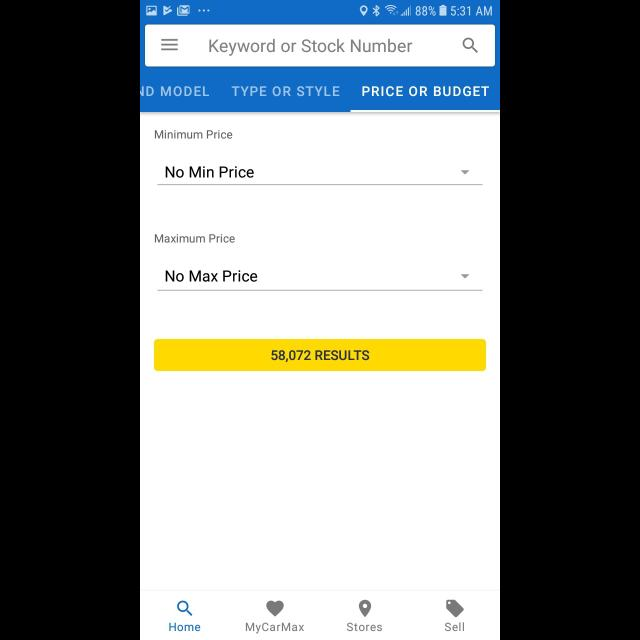icon: (446, 599, 464, 617), (266, 601, 284, 617), (462, 38, 478, 54), (177, 600, 193, 616), (358, 599, 372, 617), (162, 39, 178, 51), (460, 170, 470, 174), (460, 274, 470, 278)
input: (145, 25, 495, 67), (158, 270, 482, 292), (158, 166, 482, 186)
text: (210, 40, 412, 56), (362, 86, 490, 98), (232, 85, 340, 96), (166, 270, 258, 282), (166, 166, 254, 178), (140, 86, 210, 98), (155, 130, 233, 140), (155, 234, 235, 243), (246, 622, 304, 634), (348, 622, 382, 632), (169, 622, 201, 632), (444, 622, 464, 632)
textbutton: (154, 338, 486, 372)
uppertaskbar: (140, 1, 500, 18)
